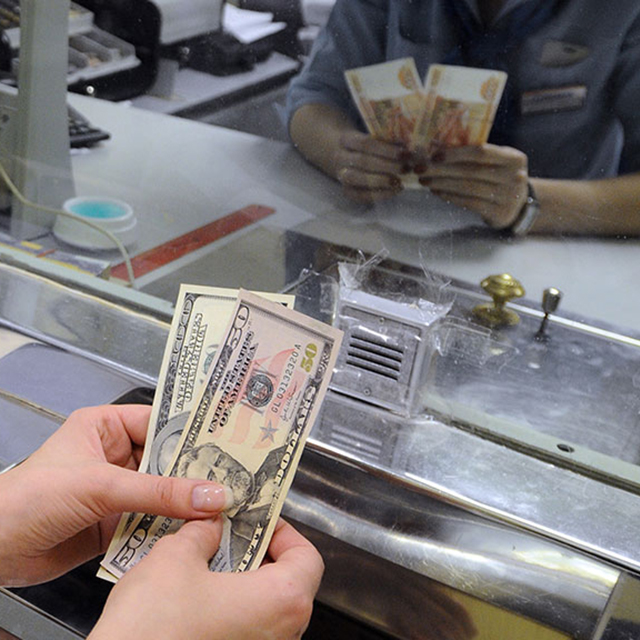banknotes: (95, 284, 349, 585), (344, 59, 506, 194)
